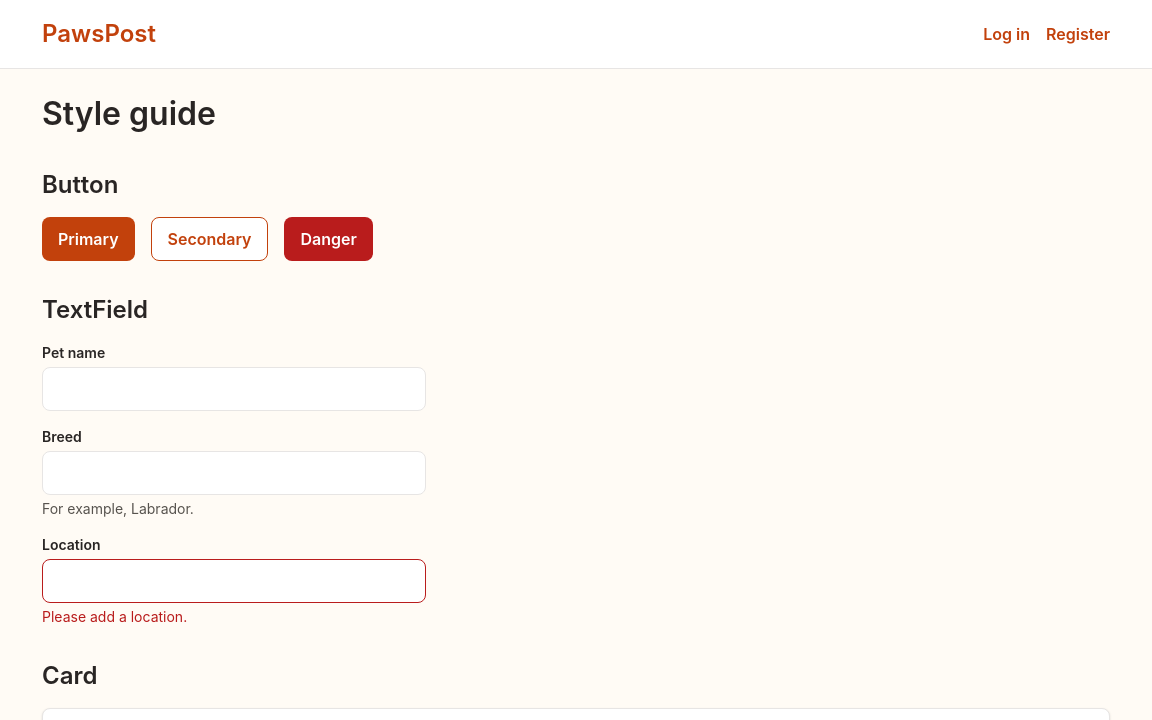
Test case: App › goes from the style guide back to the home page when the logo is clicked
Click the link "PawsPost".
click(99, 34)  # box [42,17,156,51]
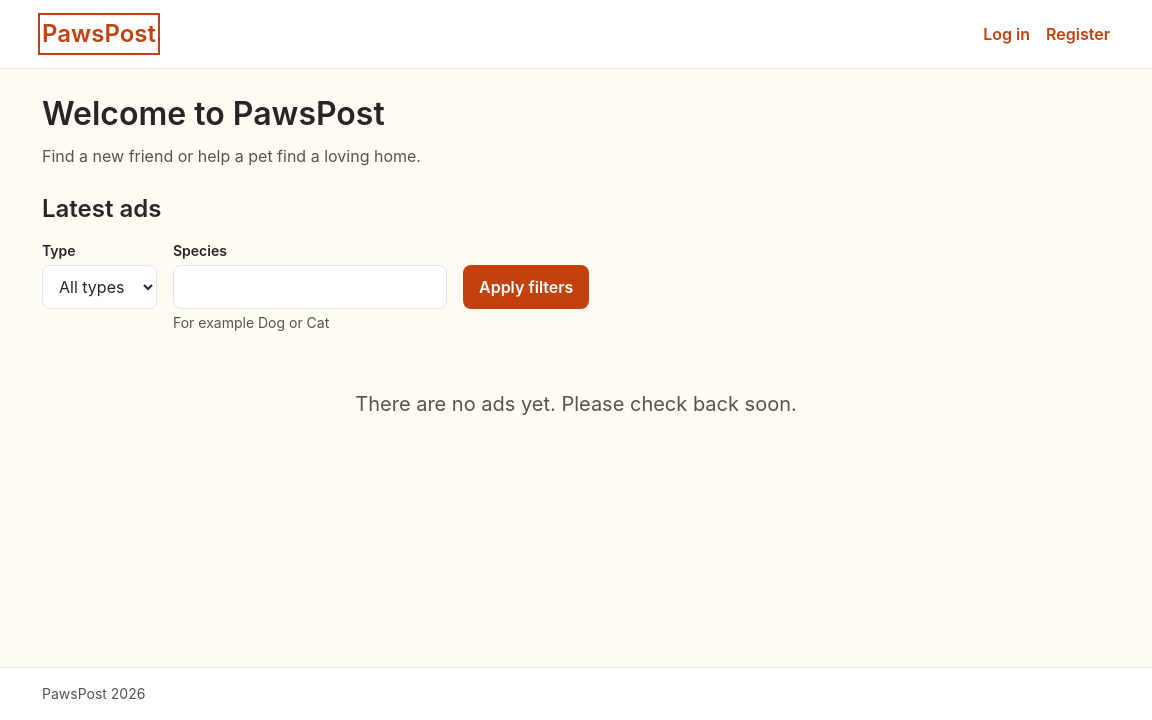
Check: the heading "Welcome to PawsPost" is shown, box [42,94,385,133]
